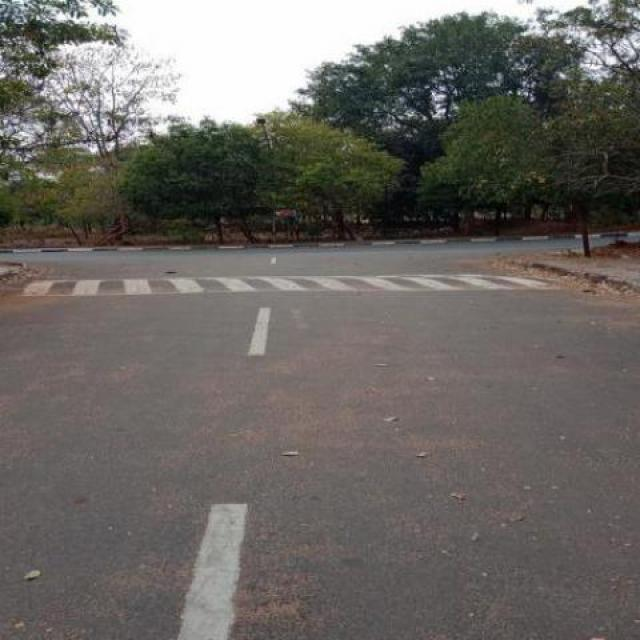Speed Bump: (20, 274, 578, 297)
